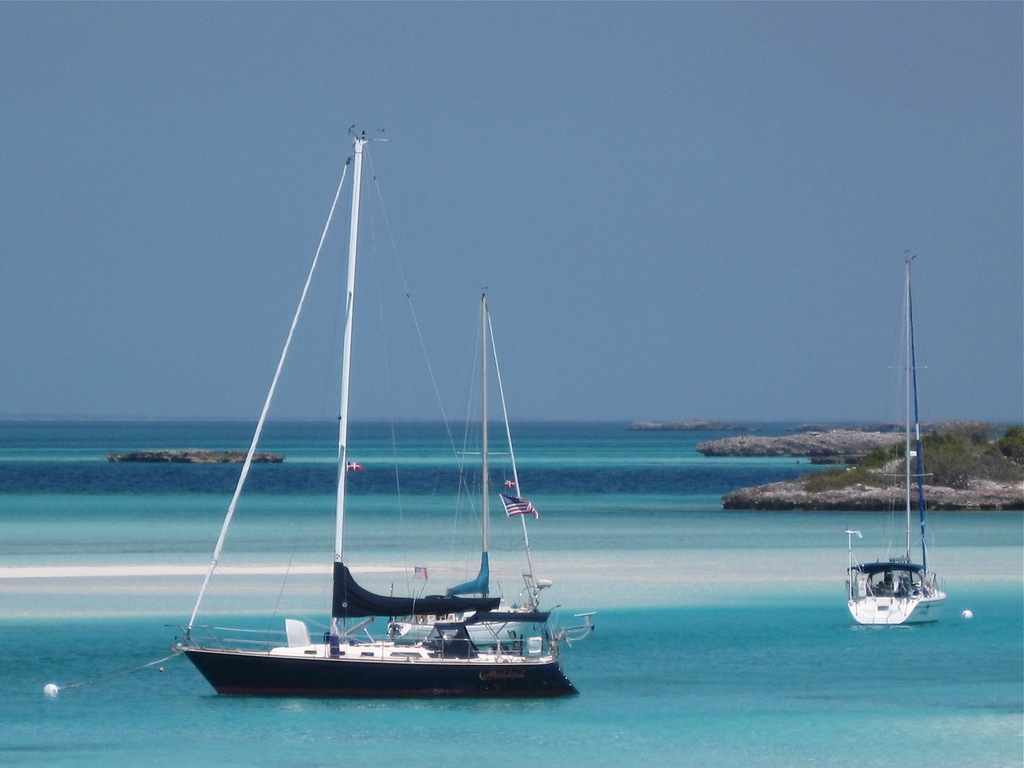boat: (138, 90, 609, 730), (802, 216, 968, 632)
